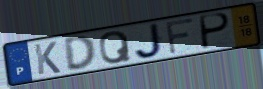D: (62, 33, 99, 72)
F: (164, 16, 196, 56)
J: (133, 21, 166, 60)
K: (32, 40, 63, 77)
P: (199, 12, 232, 51)
Q: (98, 30, 133, 66)
